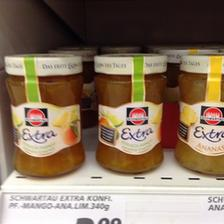Marmelade: (2, 51, 84, 176), (93, 52, 169, 172), (173, 52, 223, 176)
